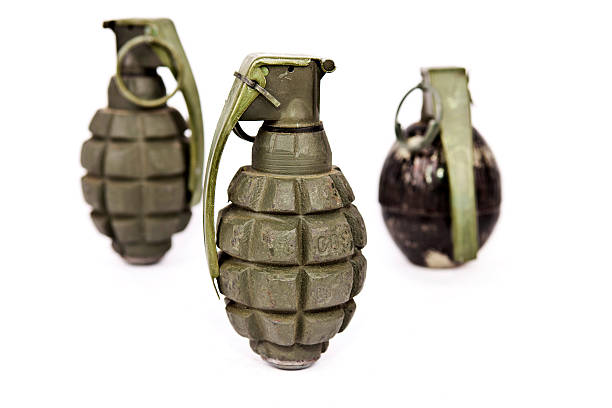e1: (204, 51, 378, 379), (80, 15, 205, 272), (378, 65, 504, 270)
